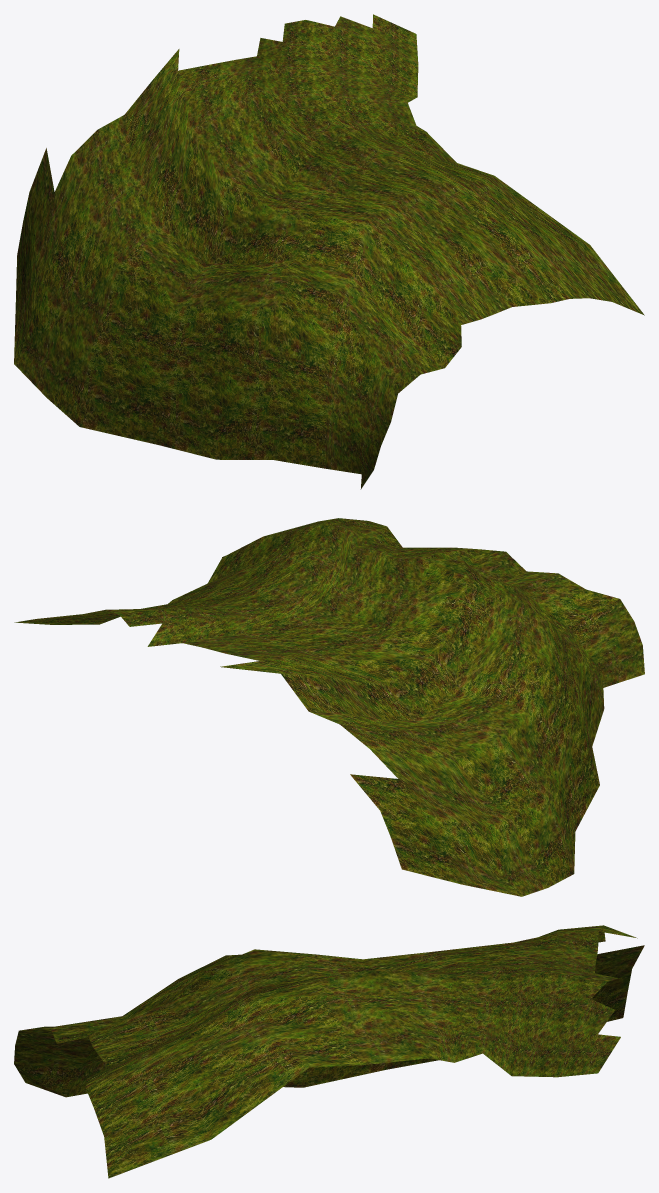
The model's file is TROLLHOLE02_LUKEGROUND07.fbx.
The picture shows the model from 3 angles, top to bottom: view 1: azimuth 30°, elevation 25°; view 2: azimuth 150°, elevation 25°; view 3: azimuth 270°, elevation 25°; orthographic projection. The views are drawn at different scales.
Visible parts, largest first — view 1: TROLLHOLE02_LUKEGROUND07; view 2: TROLLHOLE02_LUKEGROUND07; view 3: TROLLHOLE02_LUKEGROUND07.
Boxes of the visible parts, left/top/right/bottom form: TROLLHOLE02_LUKEGROUND07: left=14, top=14, right=644, bottom=489; TROLLHOLE02_LUKEGROUND07: left=14, top=518, right=644, bottom=896; TROLLHOLE02_LUKEGROUND07: left=14, top=925, right=644, bottom=1178.
Bounding box in the file's own units: 308319 × 163321 × 365026.
Materials: 1 (1 with a texture image).
